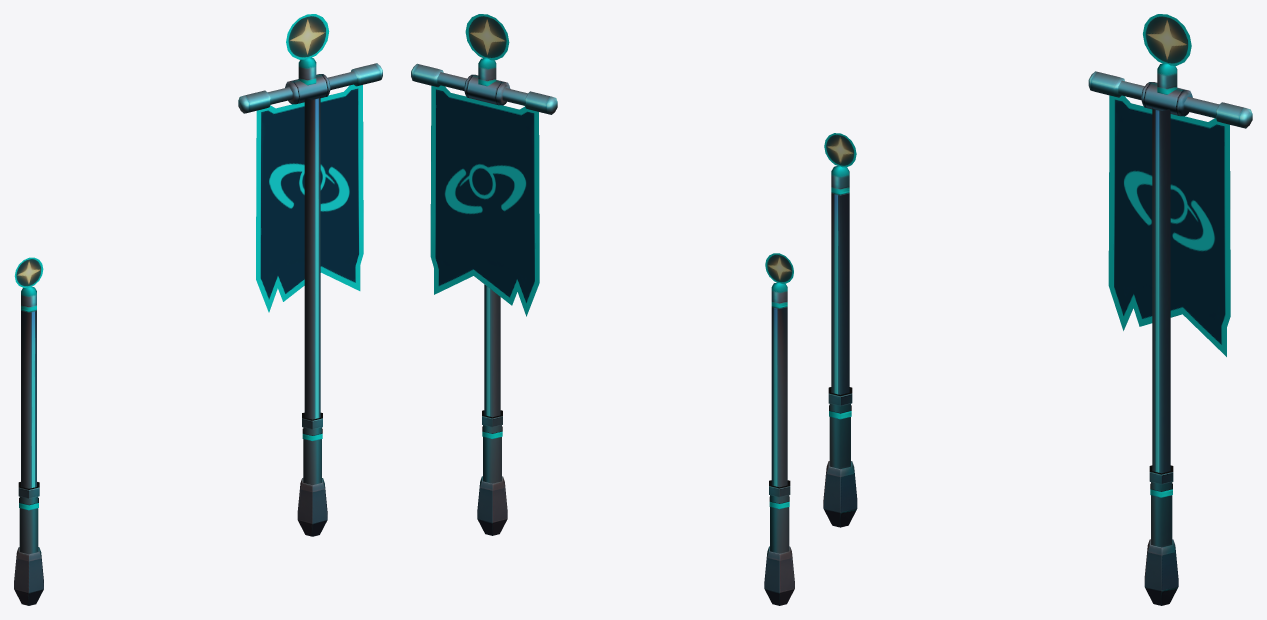
File: plusgate_t2_a5.fbx
3 renders of one model, left to right at view 1: azimuth 30°, elevation 25°; view 2: azimuth 150°, elevation 25°; view 3: azimuth 330°, elevation 25°, orthographic. The views are drawn at different scales.
Parts seen in each view (by area): view 1: plusgate_t2_a5_m, plusgate_t2_a5_m2; view 2: plusgate_t2_a5_m, plusgate_t2_a5_m2; view 3: plusgate_t2_a5_m, plusgate_t2_a5_m2.
Boxes of the visible parts, x1,y1,x2,y2 form: plusgate_t2_a5_m: [238, 14, 382, 536]; plusgate_t2_a5_m2: [14, 257, 43, 605]; plusgate_t2_a5_m: [411, 14, 557, 535]; plusgate_t2_a5_m2: [764, 253, 794, 605]; plusgate_t2_a5_m: [1088, 14, 1252, 605]; plusgate_t2_a5_m2: [823, 133, 857, 527].
Size of the model in its own units: 6.11 by 8.1 by 0.5354.
